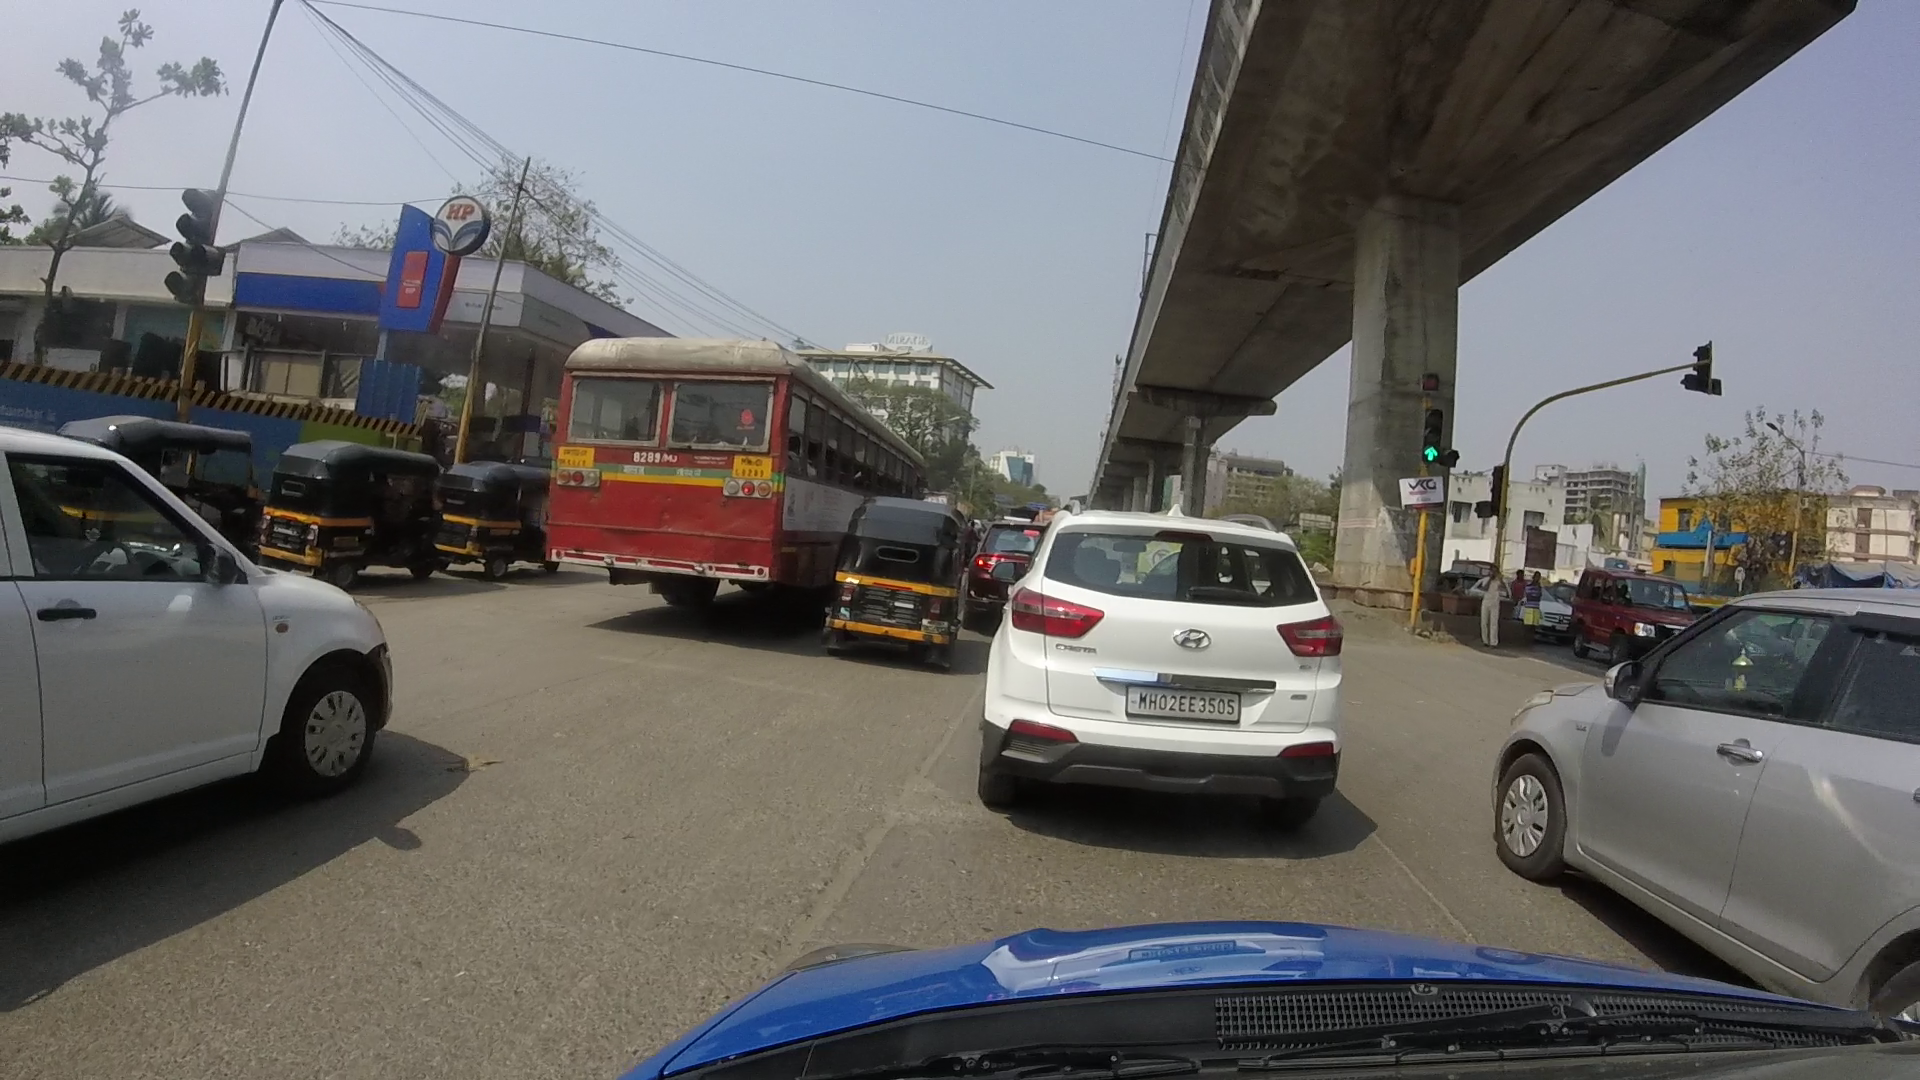bus: (549, 319, 930, 613)
car: (1495, 549, 1920, 1034), (1, 419, 411, 884), (986, 491, 1367, 793)
rickshaw: (810, 475, 968, 666), (272, 398, 439, 578)
